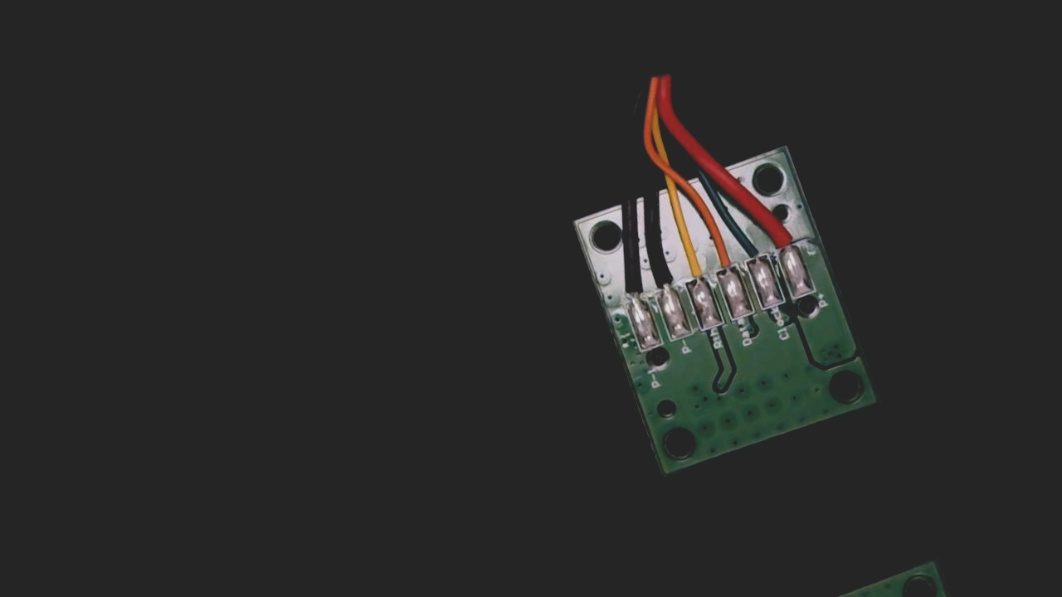Black: (645, 254, 681, 305)
Black1: (613, 264, 651, 316)
Green: (735, 227, 774, 276)
Orange: (704, 236, 743, 285)
Red: (768, 216, 803, 265)
Yellow: (672, 241, 713, 294)
